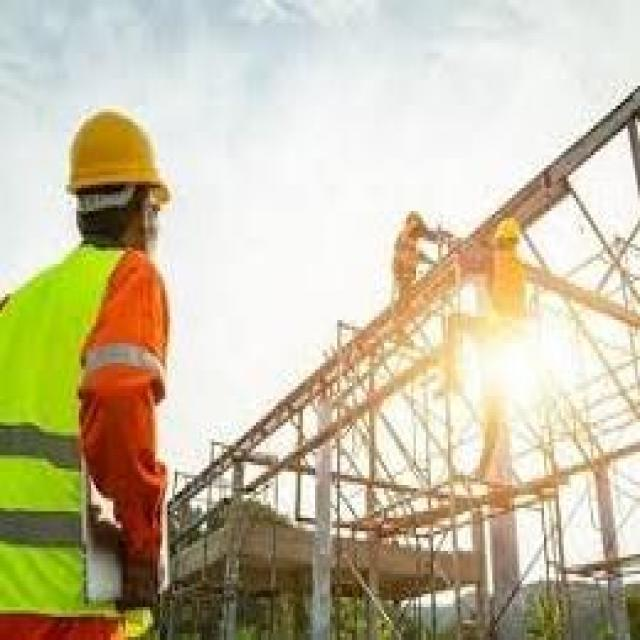reflective_jacket: (0, 234, 179, 633)
safety_helmet: (54, 99, 174, 211), (490, 208, 527, 254)
